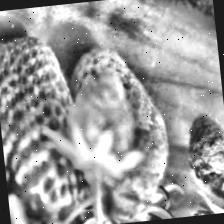Gray Mold: (179, 112, 224, 216)
